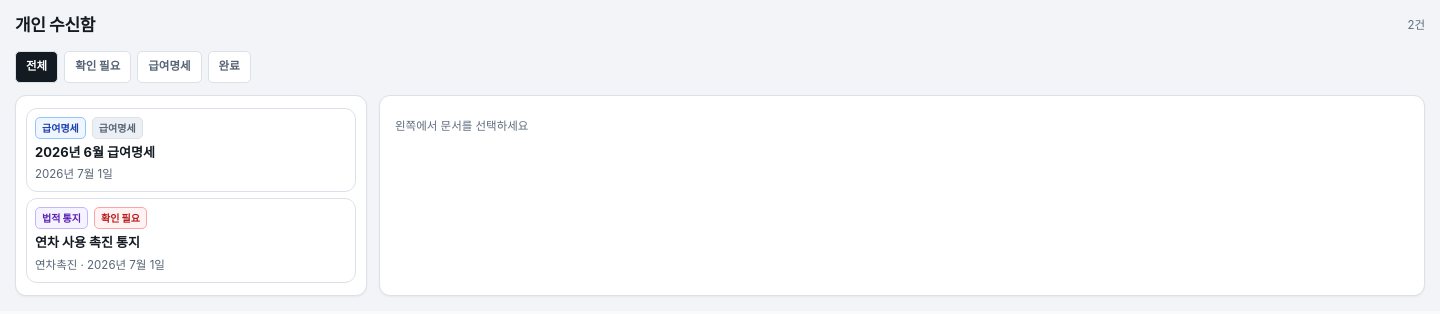
it: InboxBody › clears a selected detail when the server-side filter changes
The image size is (1440, 314).
Click the text "2026년 6월 급여명세" at (95, 152), box [35,144,155,160]
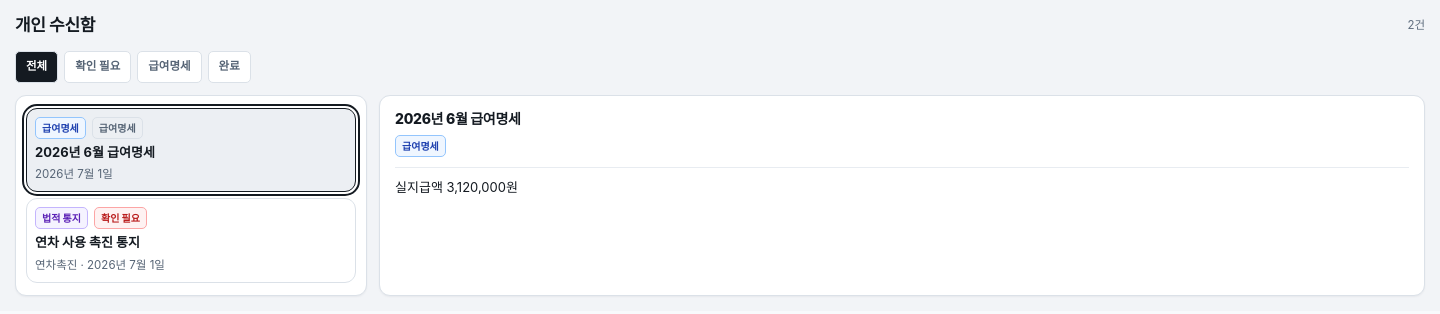
Expected: the text "실지급액 3,120,000원" is shown, [395,178,518,194]
Click the tab "급여명세" at (169, 66), box [137,50,202,82]
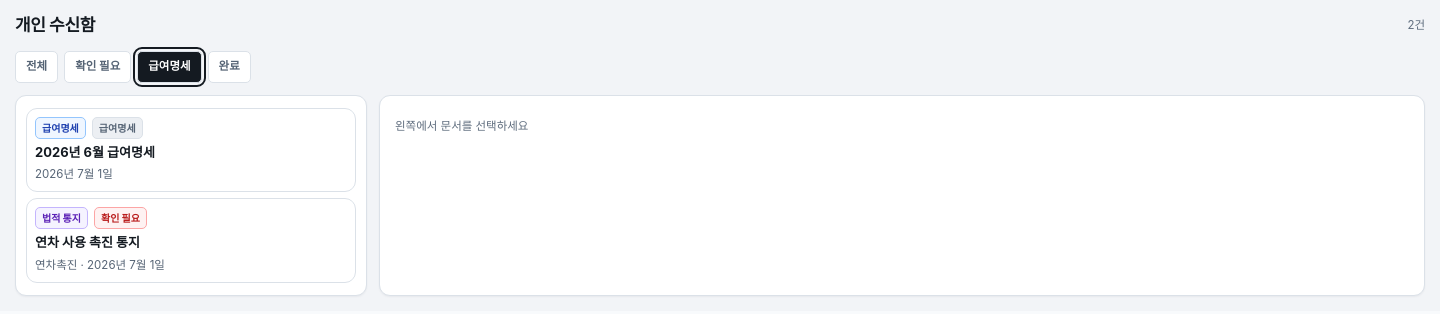
Expected: the text "왼쪽에서 문서를 선택하세요" is shown, [395,118,528,132]
Expected: the text "실지급액 3,120,000원" is gone
